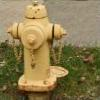a fire hydrant: (9, 2, 67, 93)
